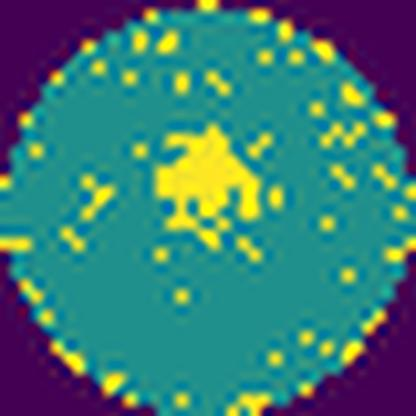Center: (157, 124, 261, 250)
